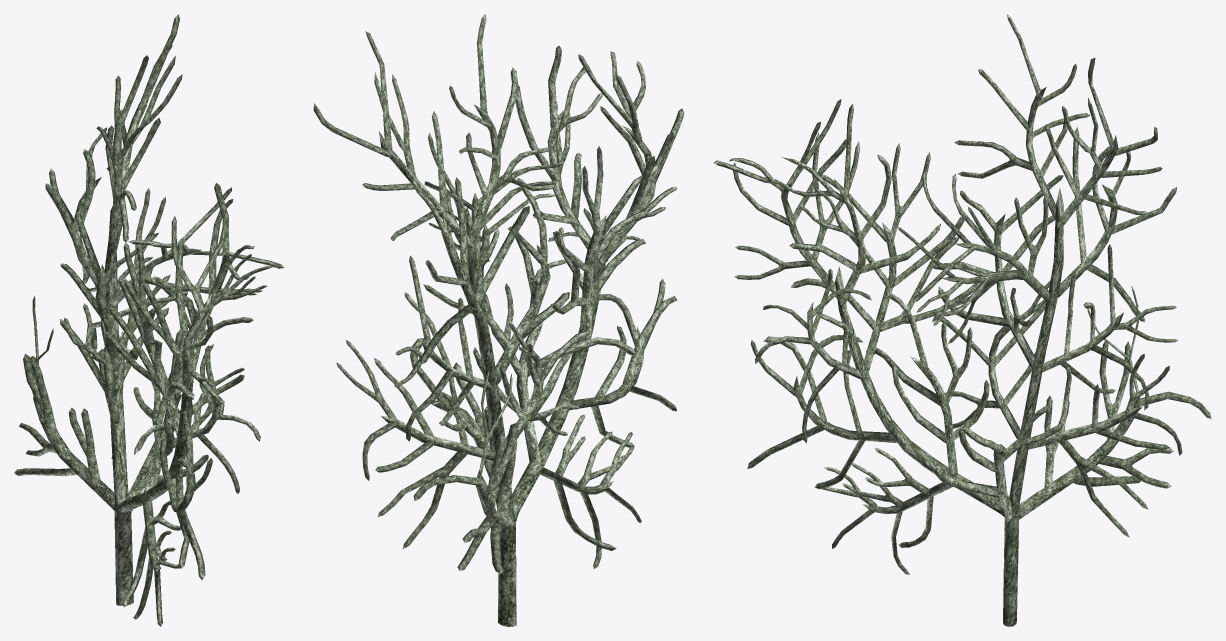
File: FanCoralCluster_FBX_still.fbx
3 renders of one model, left to right at view 1: azimuth 30°, elevation 25°; view 2: azimuth 150°, elevation 25°; view 3: azimuth 270°, elevation 25°, orthographic. The views are drawn at different scales.
Parts seen in each view (by area): view 1: FanCoralCluster_gameasset; view 2: FanCoralCluster_gameasset; view 3: FanCoralCluster_gameasset.
Part boxes in pixels (box(x1,y1,x2,y2)): FanCoralCluster_gameasset: box(14, 14, 284, 626); FanCoralCluster_gameasset: box(313, 14, 684, 626); FanCoralCluster_gameasset: box(713, 14, 1211, 626).
Bounding box in the file's own units: 1.76 × 4.96 × 3.61.
Materials: 1 (1 with a texture image).
